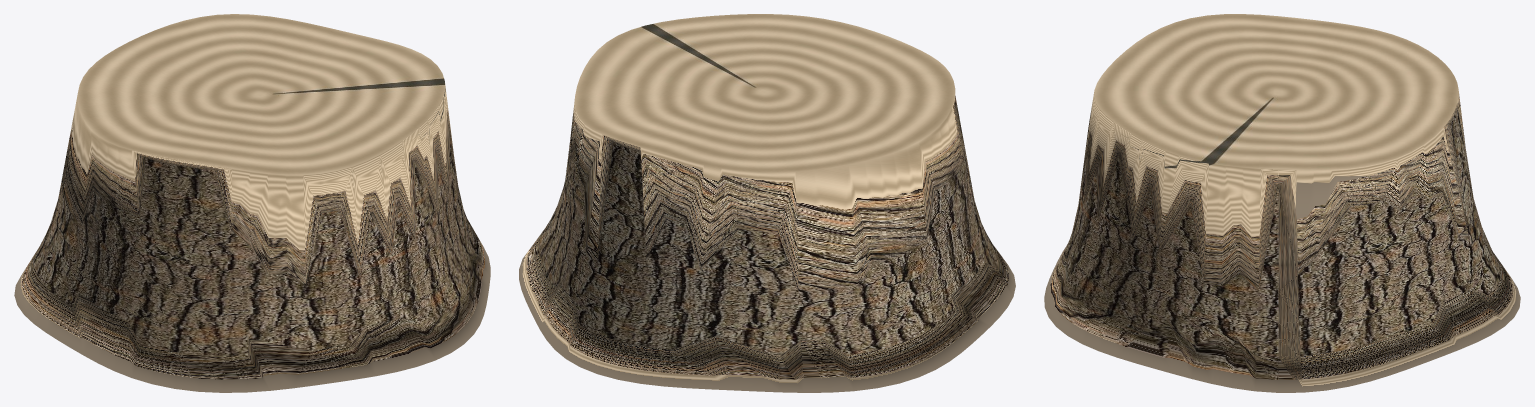
Rendered from stump_lod.gltf.
3 views of the same model, side by side, from view 1: azimuth 30°, elevation 25°; view 2: azimuth 150°, elevation 25°; view 3: azimuth 270°, elevation 25° (orthographic). The views are drawn at different scales.
Parts seen in each view (by area): view 1: stump; view 2: stump; view 3: stump.
Boxes of the visible parts, x1,y1,x2,y2 form: stump: (14, 14, 490, 392); stump: (519, 14, 1015, 392); stump: (1044, 14, 1520, 392).
Bounding box in the file's own units: 0.9002 × 0.4138 × 0.8889.
Materials: 1 (1 with a texture image).
